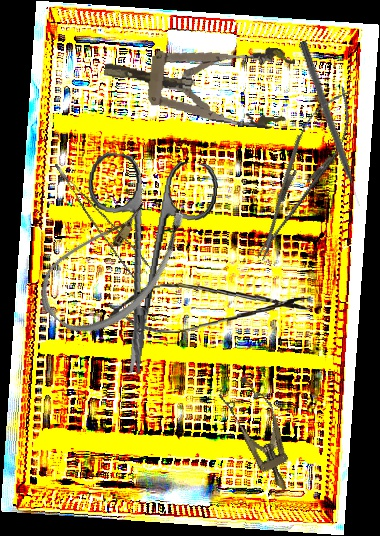Cannula: (26, 169, 202, 355)
Iris Scissors: (65, 150, 221, 381)
Micro Scissor: (103, 276, 313, 337)
Needle Holder: (238, 77, 367, 271)
Pusher: (296, 40, 364, 208)
Speculum: (99, 27, 297, 132), (214, 370, 306, 500)
Tissue Forceps: (54, 150, 153, 286)
